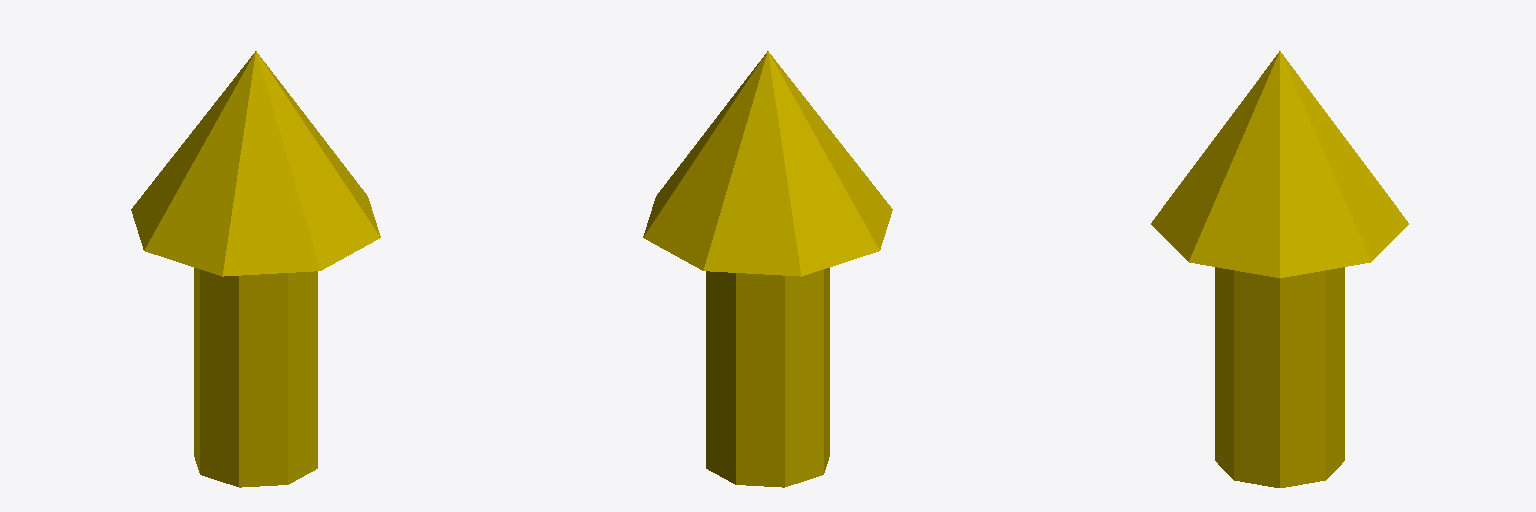
The model's file is Marker.obj.
3 renders of one model, left to right at view 1: azimuth 30°, elevation 25°; view 2: azimuth 150°, elevation 25°; view 3: azimuth 270°, elevation 25°, orthographic.
Parts seen in each view (by area): view 1: Marker; view 2: Marker; view 3: Marker.
Part boxes in pixels (left/top/right/bottom): Marker: left=131, top=51, right=380, bottom=487; Marker: left=643, top=51, right=892, bottom=487; Marker: left=1151, top=51, right=1408, bottom=487.
Size of the model in its own units: 4 by 7 by 4.